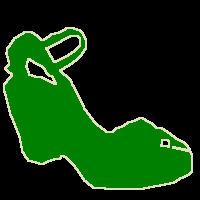shoe: (4, 28, 192, 189)
